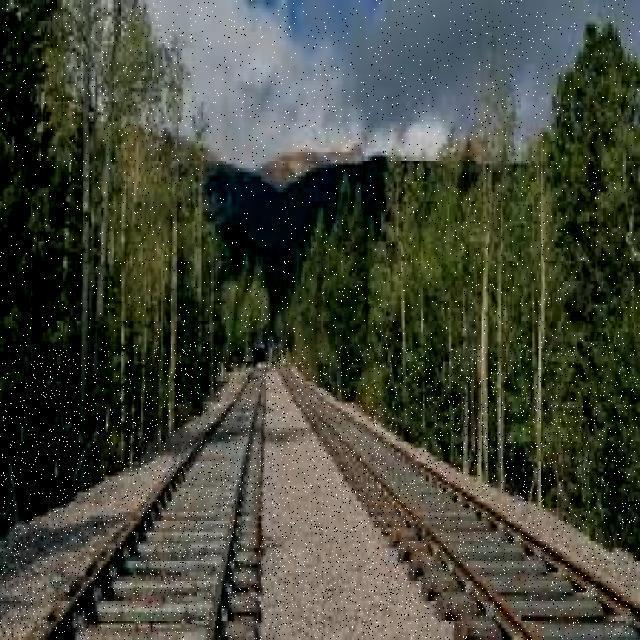rail: (0, 346, 637, 640)
